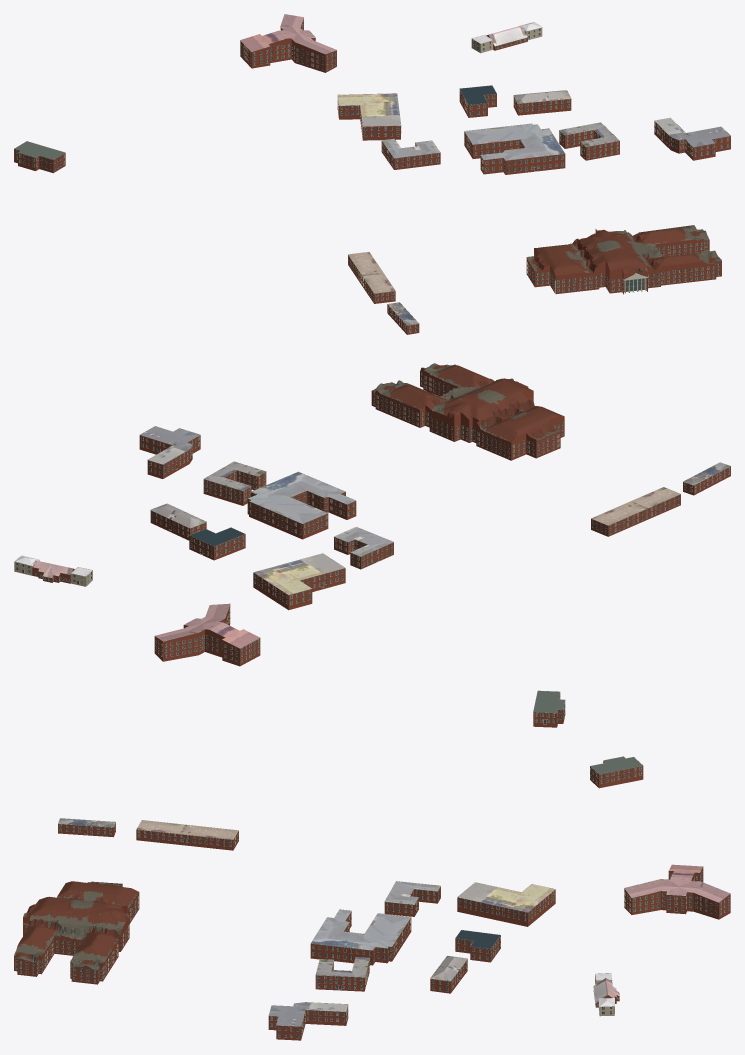
3 views of the same model, one above another, from view 1: azimuth 30°, elevation 25°; view 2: azimuth 150°, elevation 25°; view 3: azimuth 270°, elevation 25° (orthographic). The views are drawn at different scales.
Visible parts, largest first — view 1: -5_0_271950756_0, -5_0_271950830_1; view 2: -5_0_271950756_0, -5_0_271950830_1; view 3: -5_0_271950756_0, -5_0_271950830_1.
Boxes of the visible parts, left/top/right/bottom form: -5_0_271950756_0: left=14, top=19, right=730, bottom=334; -5_0_271950830_1: left=240, top=14, right=730, bottom=325; -5_0_271950756_0: left=16, top=363, right=730, bottom=727; -5_0_271950830_1: left=14, top=426, right=730, bottom=648; -5_0_271950756_0: left=14, top=756, right=730, bottom=1040; -5_0_271950830_1: left=58, top=818, right=730, bottom=1026.
Size of the model in its own units: 413 by 28.49 by 452.
15 materials, 1 textured.
